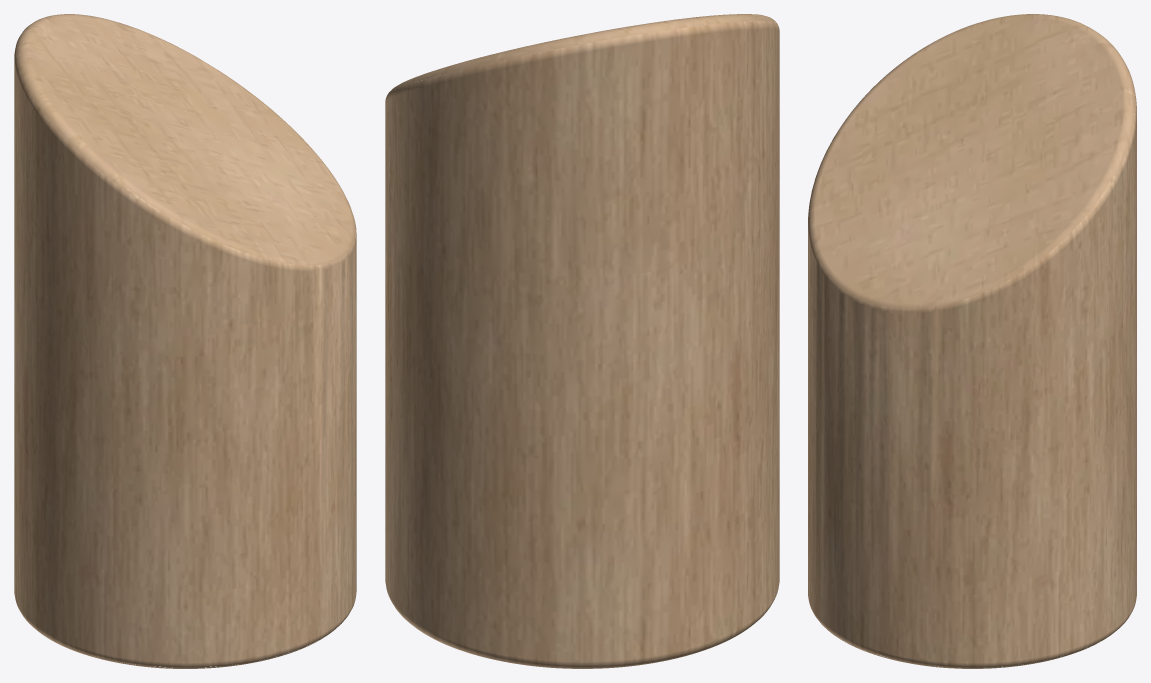
File: cylindra_strelec_bily.glb
3 renders of one model, left to right at view 1: azimuth 30°, elevation 25°; view 2: azimuth 150°, elevation 25°; view 3: azimuth 270°, elevation 25°, orthographic. The views are drawn at different scales.
Visible parts, largest first — view 1: Cylindra_Střelec_bílý; view 2: Cylindra_Střelec_bílý; view 3: Cylindra_Střelec_bílý.
Boxes of the visible parts, left/top/right/bottom form: Cylindra_Střelec_bílý: left=14, top=14, right=356, bottom=668; Cylindra_Střelec_bílý: left=385, top=14, right=779, bottom=668; Cylindra_Střelec_bílý: left=808, top=14, right=1136, bottom=668.
Bounding box in the file's own units: 0.028 × 0.05 × 0.028.
2 materials, 2 textured.
